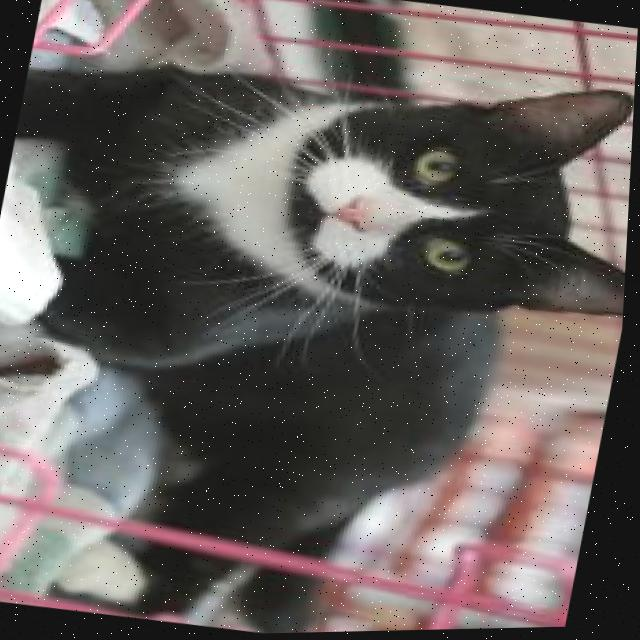Tuxedo: (0, 4, 639, 640)
